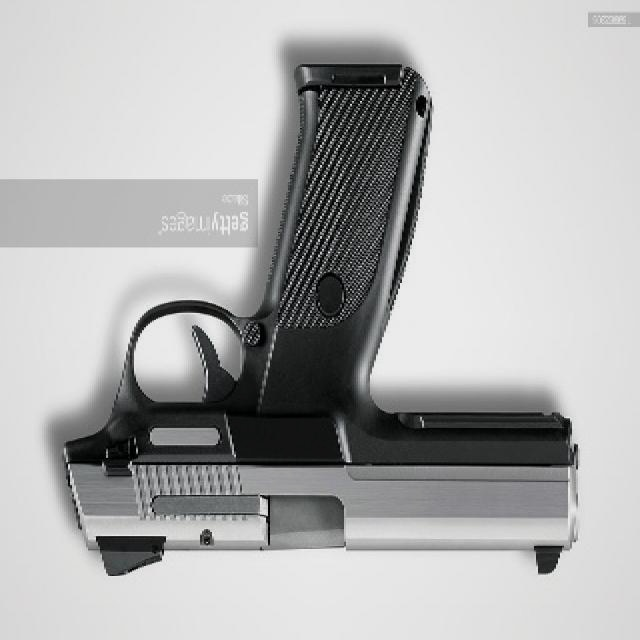gun: (46, 59, 596, 591)
